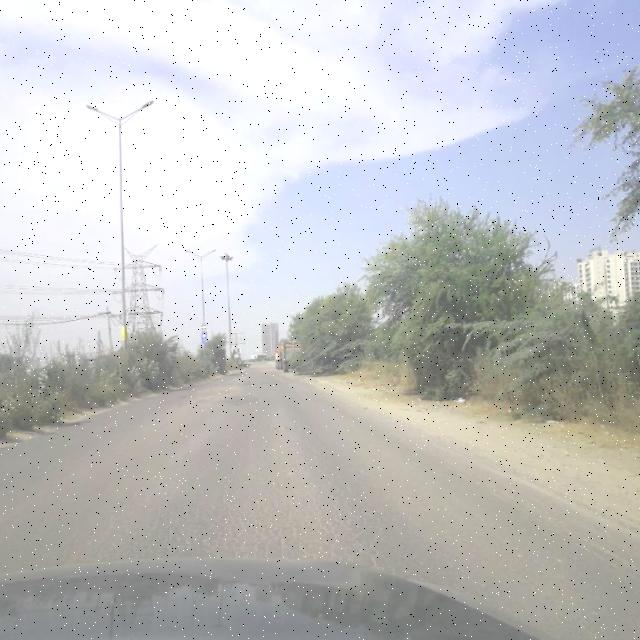D00: (453, 459, 639, 575)
D20: (62, 410, 398, 562)
D40: (194, 378, 239, 403), (271, 416, 296, 436)
